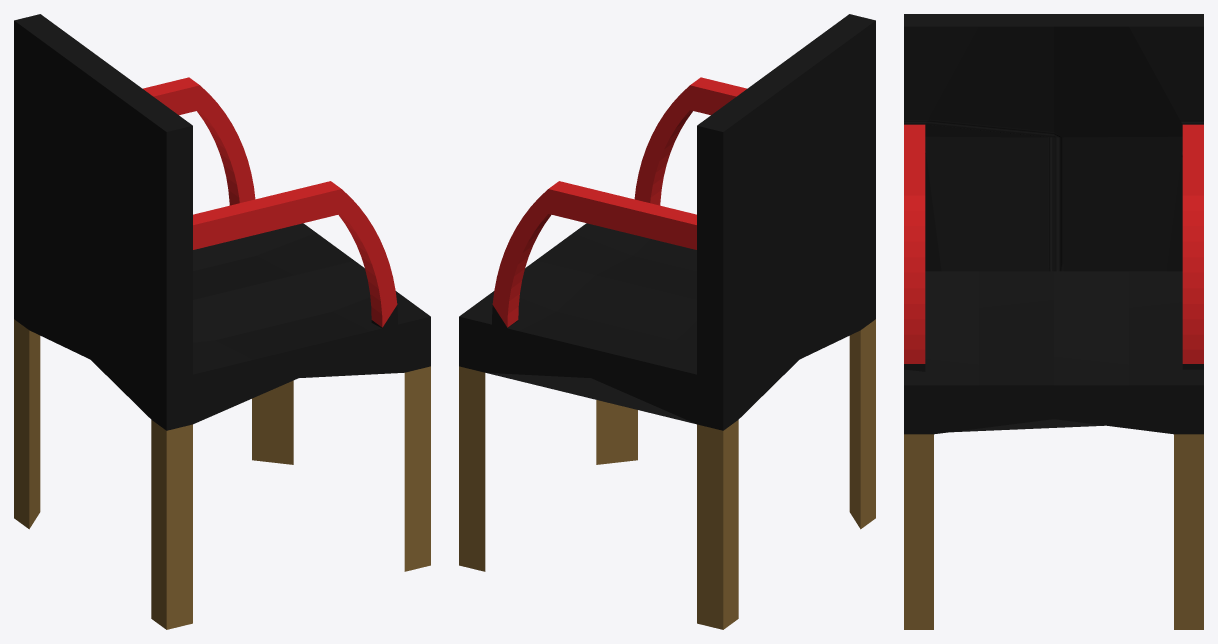
The model's file is silla_ext_11.obj.
The picture shows the model from 3 angles, left to right: view 1: azimuth 30°, elevation 25°; view 2: azimuth 150°, elevation 25°; view 3: azimuth 270°, elevation 25°; orthographic projection.
Parts seen in each view (by area): view 1: Cubo.013_Cubo.041; view 2: Cubo.013_Cubo.041; view 3: Cubo.013_Cubo.041.
Part boxes in pixels (box(x1,y1,x2,y2)): Cubo.013_Cubo.041: box(14, 14, 430, 629); Cubo.013_Cubo.041: box(459, 14, 875, 629); Cubo.013_Cubo.041: box(904, 14, 1203, 629).
Bounding box in the file's own units: 0.5 × 0.9 × 0.5.
